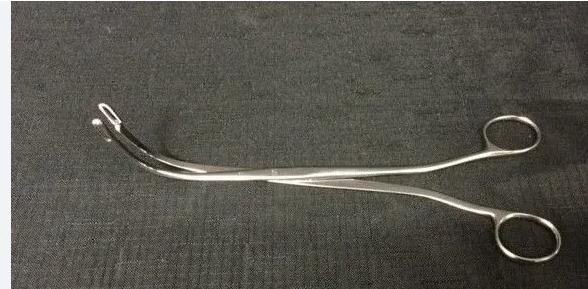Randall Forceps: (81, 82, 566, 270)
